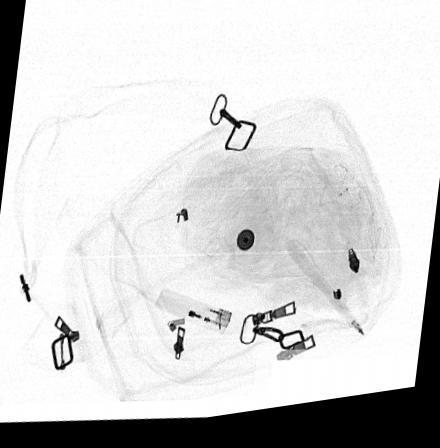Lighter: (153, 292, 233, 342)
